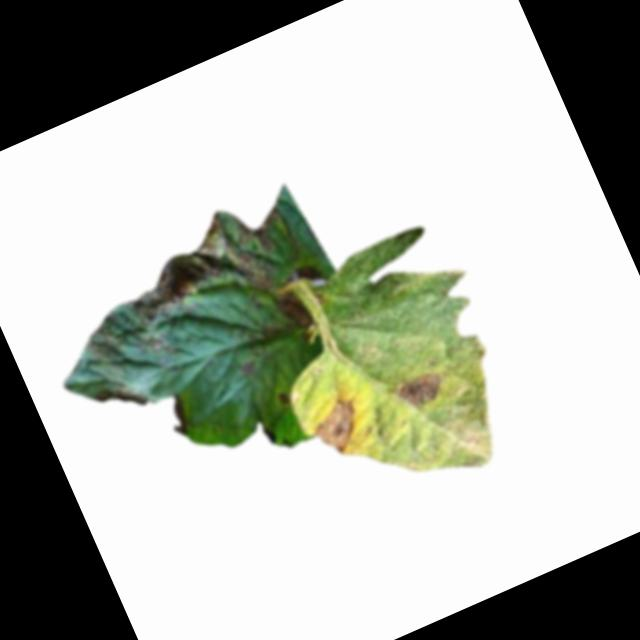Early_blight: (110, 186, 310, 344), (307, 391, 375, 461), (390, 366, 450, 415), (93, 374, 151, 421), (157, 392, 199, 443), (269, 288, 311, 334), (276, 387, 294, 403)
